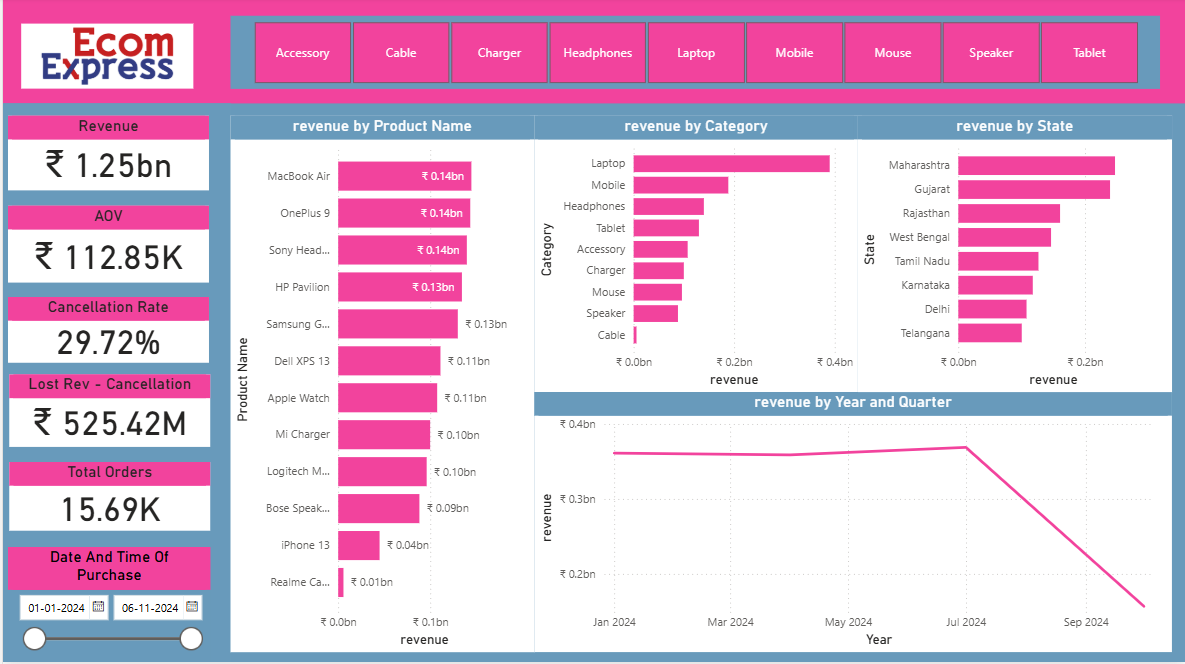

This screenshot's page, from the dashboard's own definition file:
{"tool":"powerbi","page":{"name":"Page 1","canvas":[1280,720],"ordinal":0},"visuals":[{"type":"shape","box":[0,0,1280.3,115.3],"z":0},{"type":"shape","box":[0,115,246.5,605.2],"z":1000},{"type":"image","box":[15.1,0,195.8,128.7],"z":2000},{"type":"barChart","fields":{"Y":["table.revenue"],"Category":["products.Product Name"]},"box":[246.3,128.6,328.9,580.6],"z":3000},{"type":"barChart","fields":{"Y":["table.revenue"],"Category":["products.Category"]},"box":[575.2,128.6,350.5,299.1],"z":4000},{"type":"lineChart","fields":{"Category":["orders.Delivery time.Variation.Date Hierarchy.Year","orders.Delivery time.Variation.Date Hierarchy.Quarter","orders.Delivery time.Variation.Date Hierarchy.Month","orders.Delivery time.Variation.Date Hierarchy.Day"],"Y":["table.revenue"]},"box":[575.2,427.7,690.2,281.5],"z":5000},{"type":"barChart","fields":{"Category":["customers.State"],"Y":["table.revenue"]},"box":[925.7,128.6,339.7,299.1],"z":6000},{"type":"slicer","fields":{"Values":["products.Category"]},"box":[246.5,20.5,1006.4,79.4],"z":7000},{"type":"card","title":"Revenue","fields":{"Values":["table.revenue"]},"box":[5.5,128.7,217.7,80.8],"z":8000},{"type":"card","title":"AOV","fields":{"Values":["table.AOV"]},"box":[5.5,225.9,217.7,83.5],"z":9000},{"type":"card","title":"Cancellation Rate","fields":{"Values":["table.Cancellation Rate"]},"box":[5.5,324.5,217.7,71.2],"z":10000},{"type":"card","title":"Lost Rev - Cancellation","fields":{"Values":["table.lost_rev_cancellation"]},"box":[6.8,408.7,217.9,78.5],"z":11000},{"type":"card","title":"Total Orders","fields":{"Values":["CountNonNull(orders.OrderID)"]},"box":[6.8,503.4,217.9,74.4],"z":12000},{"type":"slicer","title":"Date And Time Of Purchase","fields":{"Values":["orders.Date and time of purchase"]},"box":[5.4,595.5,219.2,124.5],"z":13000}]}

Visuals, with their boxes in screenshot pixels (x1, y1, x2, y2), scaled from the page's 1280x720 canvas onto the 1185x664 screenshot:
shape: (0,0,1184,106)
shape: (0,106,228,663)
image: (14,0,195,119)
barChart - table.revenue x products.Product Name: (228,119,533,654)
barChart - table.revenue x products.Category: (533,119,857,394)
lineChart - orders.Delivery time.Variation.Date Hierarchy.Year x orders.Delivery time.Variation.Date Hierarchy.Quarter: (533,394,1171,654)
barChart - customers.State x table.revenue: (857,119,1171,394)
slicer - products.Category: (228,19,1160,92)
"Revenue" card: (5,119,207,193)
"AOV" card: (5,208,207,285)
"Cancellation Rate" card: (5,299,207,365)
"Lost Rev - Cancellation" card: (6,377,208,449)
"Total Orders" card: (6,464,208,533)
"Date And Time Of Purchase" slicer: (5,549,208,663)
